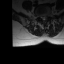CCS_normal: (43, 14, 45, 21)
LFS_normal: (46, 13, 48, 18)
LLS_normal: (44, 14, 46, 20)
RFS_severe_stenosis: (39, 14, 41, 19)
RLS_normal: (41, 15, 43, 20)
